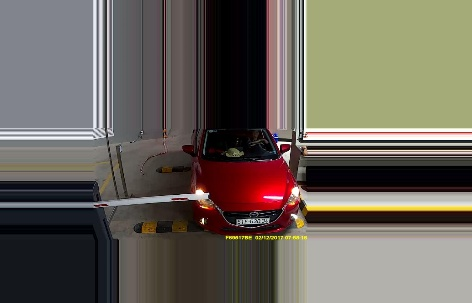plate: (235, 215, 270, 227)
